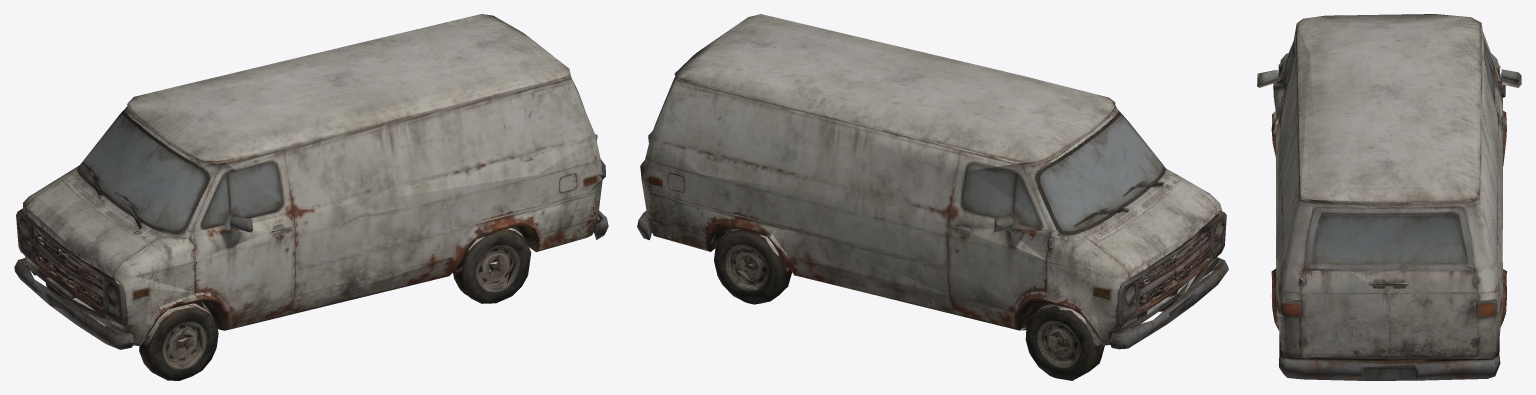
File: car_van_light.glb
3 renders of one model, left to right at view 1: azimuth 30°, elevation 25°; view 2: azimuth 150°, elevation 25°; view 3: azimuth 270°, elevation 25°, orthographic. The views are drawn at different scales.
Parts seen in each view (by area): view 1: output_unwrapped; view 2: output_unwrapped; view 3: output_unwrapped.
Boxes of the visible parts, x1,y1,x2,y2 form: output_unwrapped: [14, 14, 608, 380]; output_unwrapped: [637, 14, 1228, 380]; output_unwrapped: [1257, 14, 1521, 380].
Size of the model in its own units: 5.64 by 2.3 by 2.49.
1 material, 1 textured.
